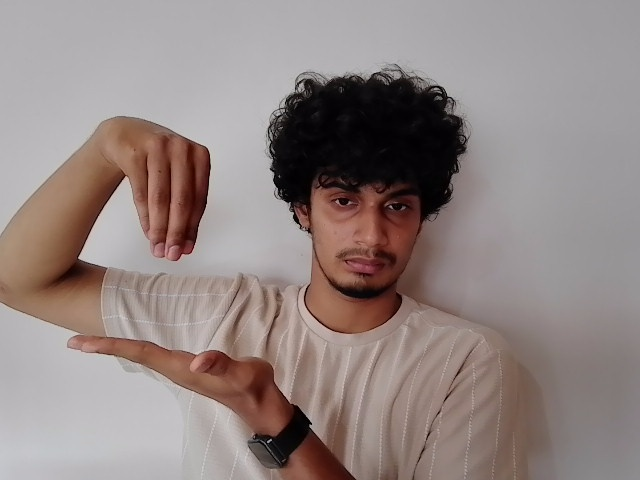learn: (68, 114, 289, 407)
